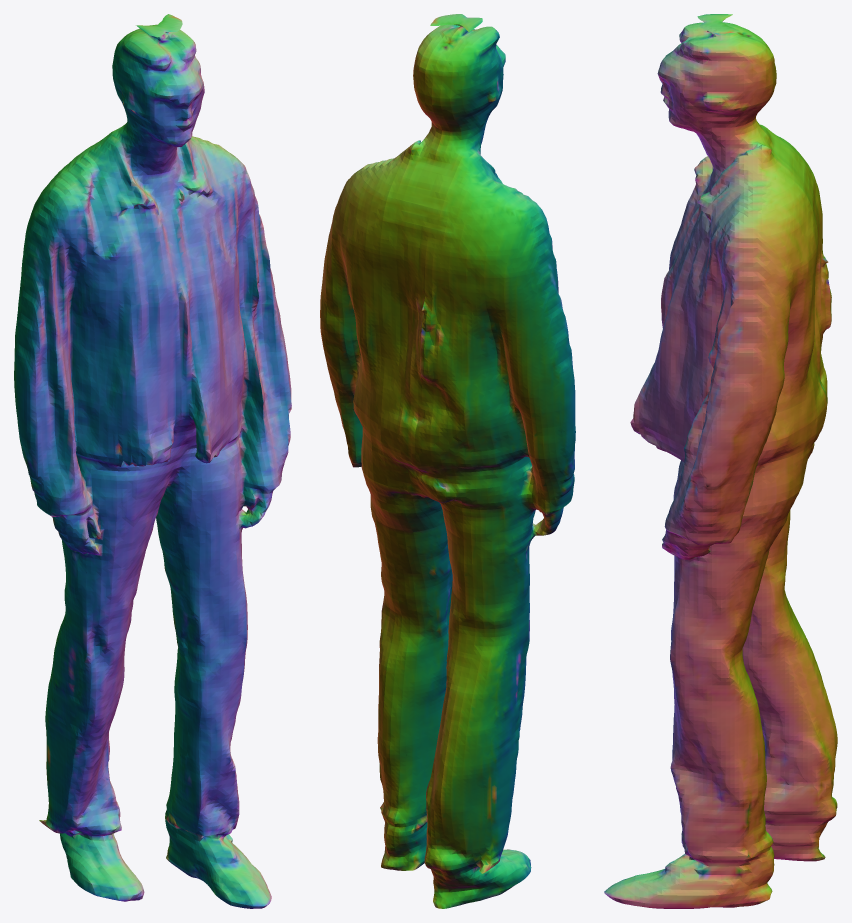
Rendered from result_model_img_256.obj.
3 renders of one model, left to right at view 1: azimuth 30°, elevation 25°; view 2: azimuth 150°, elevation 25°; view 3: azimuth 270°, elevation 25°, orthographic.
Size of the model in its own units: 0.4944 by 1.62 by 0.4003.
